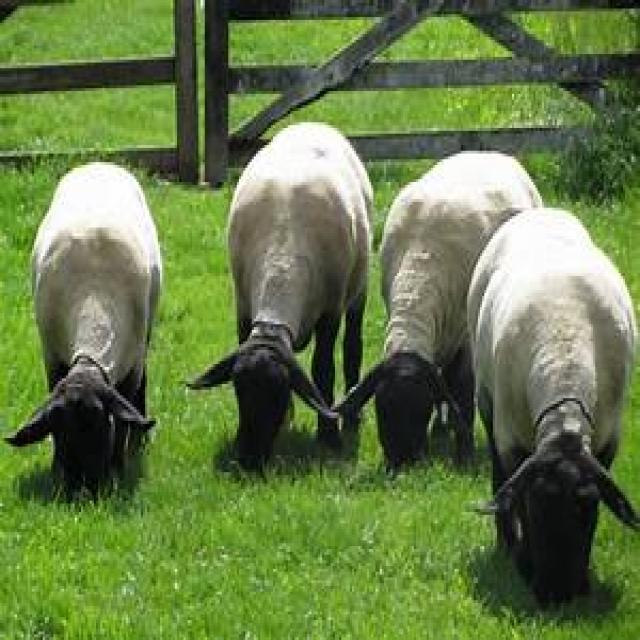animal: (467, 202, 640, 609), (334, 153, 542, 470), (187, 119, 376, 464), (3, 159, 165, 496)
